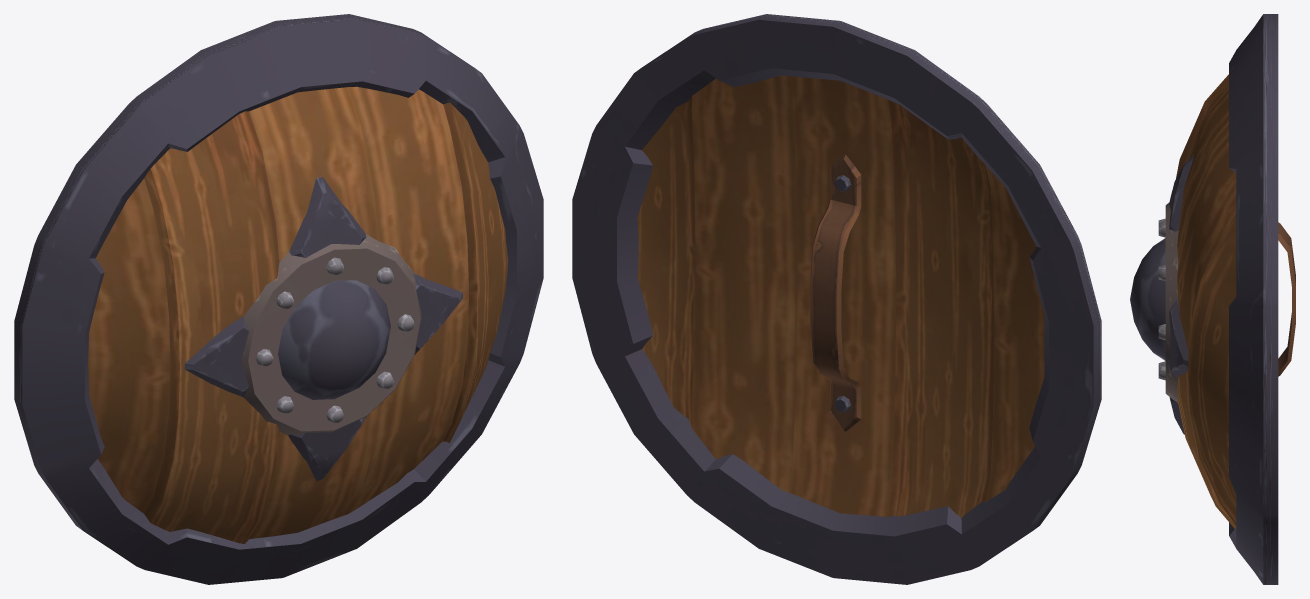
Rendered from Shield_Wooden.gltf.
The picture shows the model from 3 angles, left to right: view 1: azimuth 30°, elevation 25°; view 2: azimuth 150°, elevation 25°; view 3: azimuth 270°, elevation 25°; orthographic projection. The views are drawn at different scales.
Parts seen in each view (by area): view 1: Shield_Wooden; view 2: Shield_Wooden; view 3: Shield_Wooden.
Boxes of the visible parts, box(x1,y1,x2,y2) form: Shield_Wooden: box(14, 14, 543, 584); Shield_Wooden: box(572, 14, 1101, 584); Shield_Wooden: box(1130, 14, 1295, 584).
Bounding box in the file's own units: 0.6146 × 0.6209 × 0.1788.
3 materials, 3 textured.
